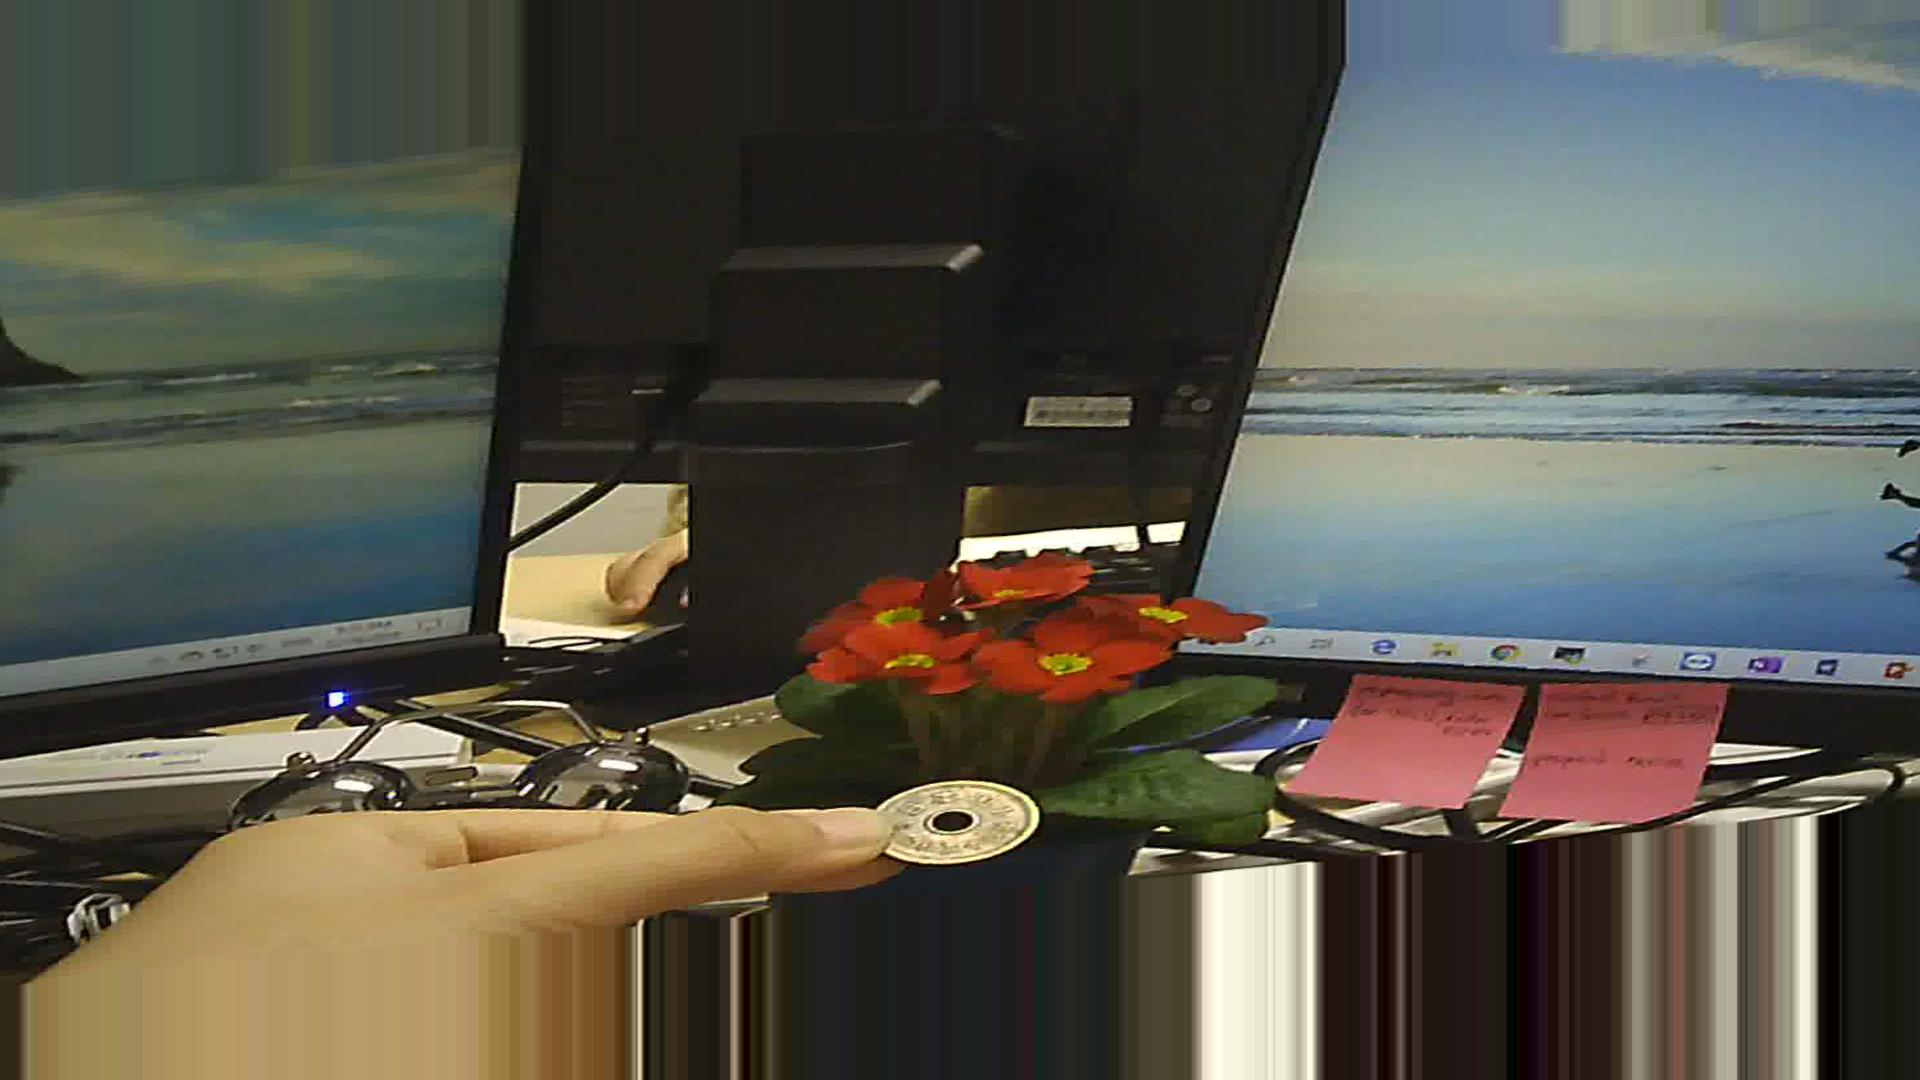5 Yen: (865, 767, 1030, 869)
